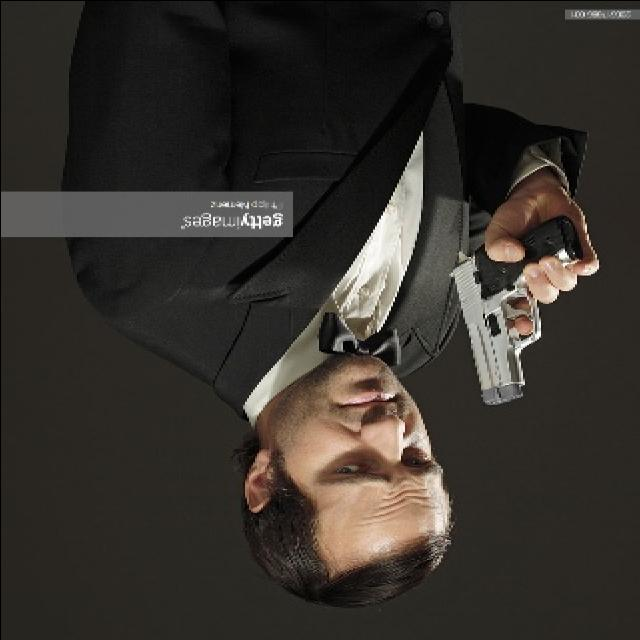handgun: (449, 220, 585, 409)
